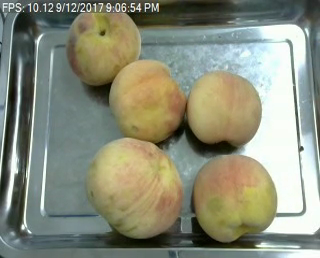Peach: (85, 135, 181, 239), (192, 154, 278, 242), (108, 59, 188, 143), (64, 3, 141, 87), (187, 70, 263, 146)
